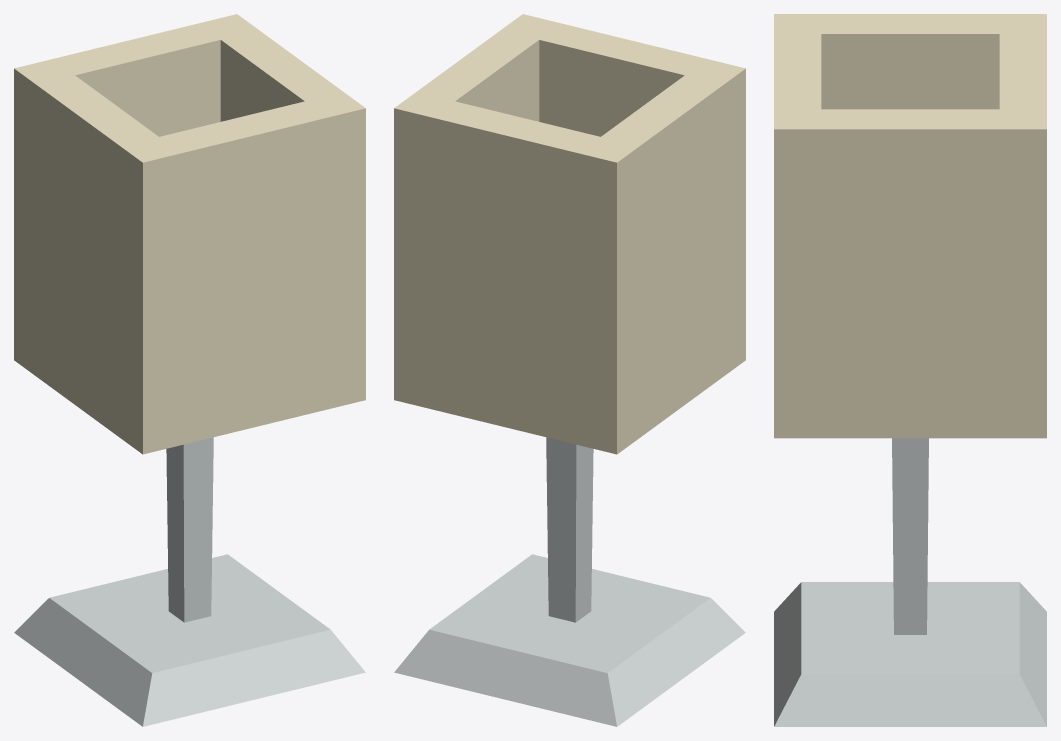
File: table_lamp.glb
3 renders of one model, left to right at view 1: azimuth 30°, elevation 25°; view 2: azimuth 150°, elevation 25°; view 3: azimuth 270°, elevation 25°, orthographic. The views are drawn at different scales.
Parts seen in each view (by area): view 1: lampSquareTable(Clone); view 2: lampSquareTable(Clone); view 3: lampSquareTable(Clone).
Boxes of the visible parts, bbox=[...] form: lampSquareTable(Clone): bbox=[14, 14, 365, 726]; lampSquareTable(Clone): bbox=[394, 14, 745, 726]; lampSquareTable(Clone): bbox=[774, 14, 1046, 726].
Size of the model in its own units: 0.252 by 0.609 by 0.252.
